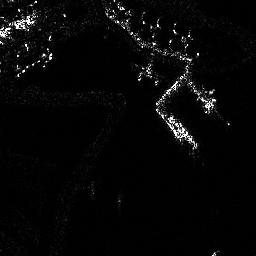ship: (167, 113, 198, 149)
